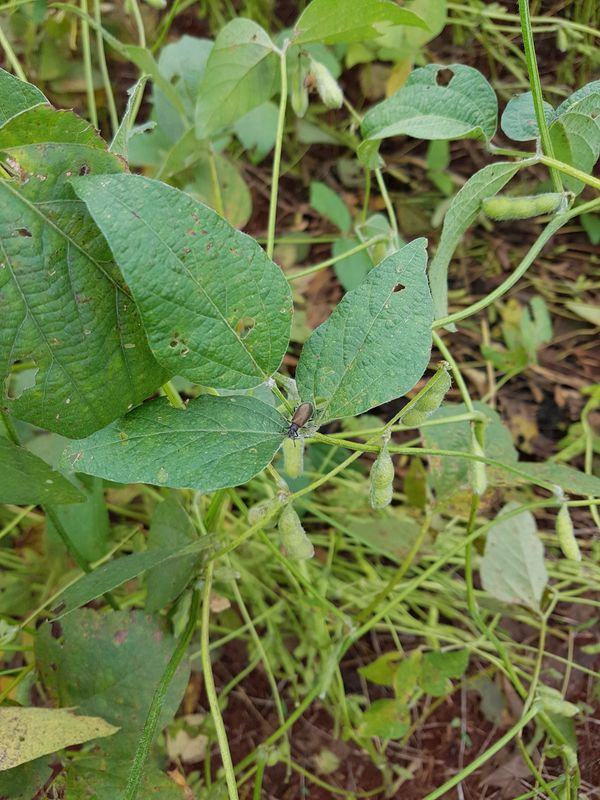Lagria_villosa: (276, 399, 320, 446)
